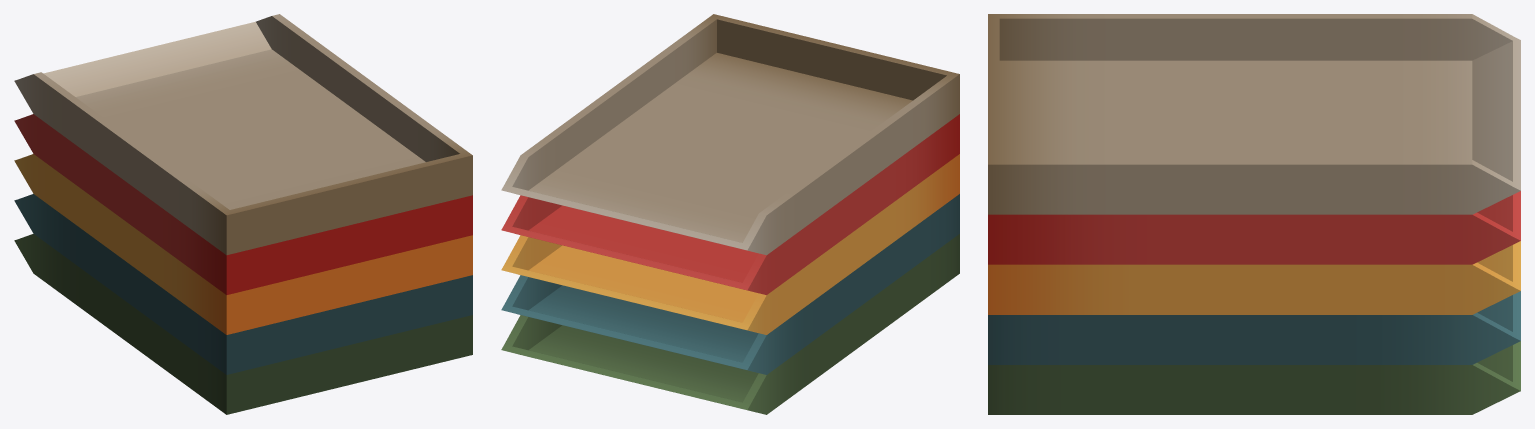
The model's file is SM_Trays.fbx.
The picture shows the model from 3 angles, left to right: view 1: azimuth 30°, elevation 25°; view 2: azimuth 150°, elevation 25°; view 3: azimuth 270°, elevation 25°; orthographic projection. The views are drawn at different scales.
Visible parts, largest first — view 1: clasificador_blanco, clasificador_azul, clasificador_rojo, clasificador_verde, clasificador_amarillo; view 2: clasificador_blanco, clasificador_azul, clasificador_amarillo, clasificador_rojo, clasificador_verde; view 3: clasificador_blanco, clasificador_amarillo, clasificador_rojo, clasificador_verde, clasificador_azul.
Part boxes in pixels (left/top/right/bottom): clasificador_blanco: left=14, top=14, right=472, bottom=255; clasificador_azul: left=14, top=194, right=472, bottom=374; clasificador_rojo: left=14, top=114, right=472, bottom=294; clasificador_verde: left=14, top=234, right=472, bottom=414; clasificador_amarillo: left=14, top=154, right=472, bottom=334; clasificador_blanco: left=501, top=14, right=959, bottom=255; clasificador_azul: left=501, top=194, right=959, bottom=374; clasificador_amarillo: left=501, top=154, right=959, bottom=334; clasificador_rojo: left=501, top=114, right=959, bottom=295; clasificador_verde: left=501, top=234, right=959, bottom=414; clasificador_blanco: left=988, top=14, right=1520, bottom=214; clasificador_amarillo: left=988, top=241, right=1520, bottom=314; clasificador_rojo: left=988, top=191, right=1520, bottom=264; clasificador_verde: left=988, top=341, right=1520, bottom=414; clasificador_azul: left=988, top=291, right=1520, bottom=364.
Size of the model in its own units: 34.11 by 26.42 by 50.99.
